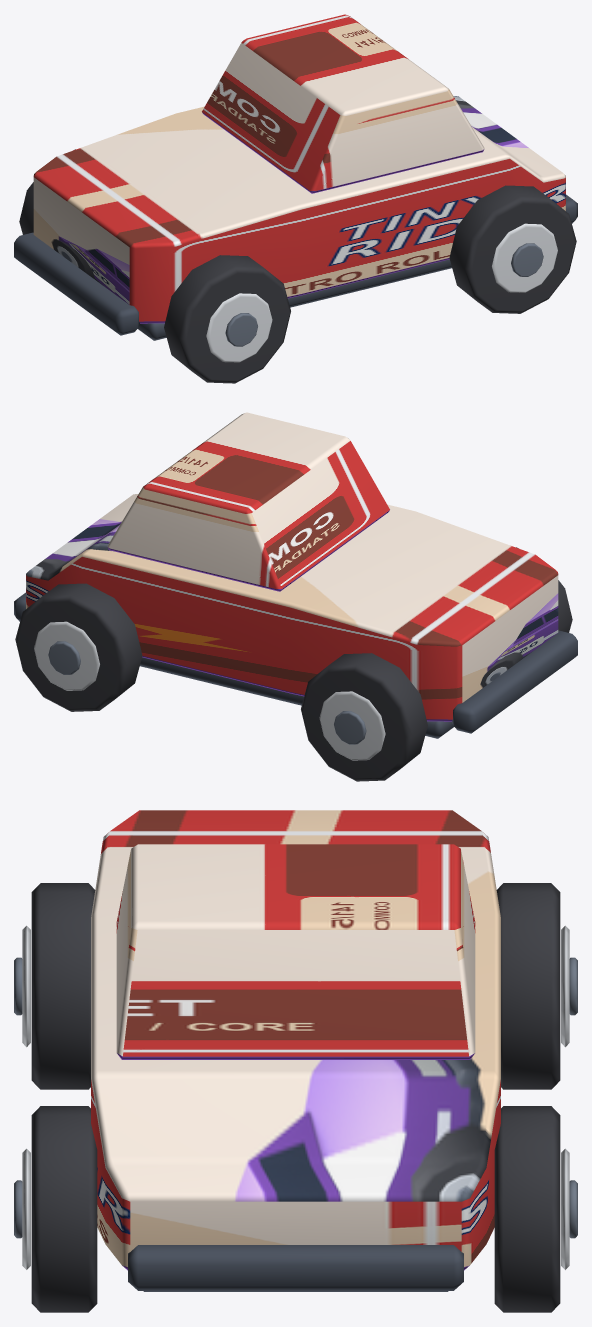
3 views of the same model, one above another, from view 1: azimuth 30°, elevation 25°; view 2: azimuth 150°, elevation 25°; view 3: azimuth 270°, elevation 25° (orthographic). The views are drawn at different scales.
Visible parts, largest first — view 1: RR-05_connected_shell, RR-05_cabin, Tire.002, Tire, front bumper, Rim, Rim.002, underbody, Hub.002, Hub, Tire.001; view 2: RR-05_connected_shell, RR-05_cabin, Tire.003, Tire.001, front bumper, Rim.001, Rim.003, underbody, Hub.003, Hub.001, Tire; view 3: RR-05_connected_shell, RR-05_cabin, rear bumper, Tire.002, Tire.003, Tire, Tire.001, Rim, Rim.001, Rim.002, Rim.003.
Part boxes in pixels (<box>): RR-05_connected_shell: <box>33,96,565,323</box>; RR-05_cabin: <box>202,14,484,193</box>; Tire.002: <box>449,185,576,313</box>; Tire: <box>164,255,290,383</box>; front bumper: <box>14,232,139,335</box>; Rim: <box>206,293,272,362</box>; Rim.002: <box>492,223,557,292</box>; underbody: <box>138,259,451,340</box>; Hub.002: <box>511,243,543,276</box>; Hub: <box>225,313,257,346</box>; Tire.001: <box>19,149,75,234</box>; RR-05_connected_shell: <box>26,494,558,721</box>; RR-05_cabin: <box>107,412,389,591</box>; Tire.003: <box>15,583,142,711</box>; Tire.001: <box>301,653,427,781</box>; front bumper: <box>452,630,577,733</box>; Rim.001: <box>319,691,385,760</box>; Rim.003: <box>34,621,99,690</box>; underbody: <box>140,657,453,738</box>; Hub.003: <box>48,641,80,674</box>; Hub.001: <box>334,711,366,744</box>; Tire: <box>516,547,572,632</box>; RR-05_connected_shell: <box>91,810,500,1270</box>; RR-05_cabin: <box>116,844,475,1059</box>; rear bumper: <box>128,1245,463,1290</box>; Tire.002: <box>31,1106,97,1312</box>; Tire.003: <box>494,1106,560,1312</box>; Tire: <box>31,883,95,1089</box>; Tire.001: <box>496,883,560,1089</box>; Rim: <box>22,925,30,1047</box>; Rim.001: <box>561,925,569,1047</box>; Rim.002: <box>22,1148,30,1269</box>; Rim.003: <box>561,1148,569,1269</box>.
Size of the model in its own units: 339 by 151 by 223.
